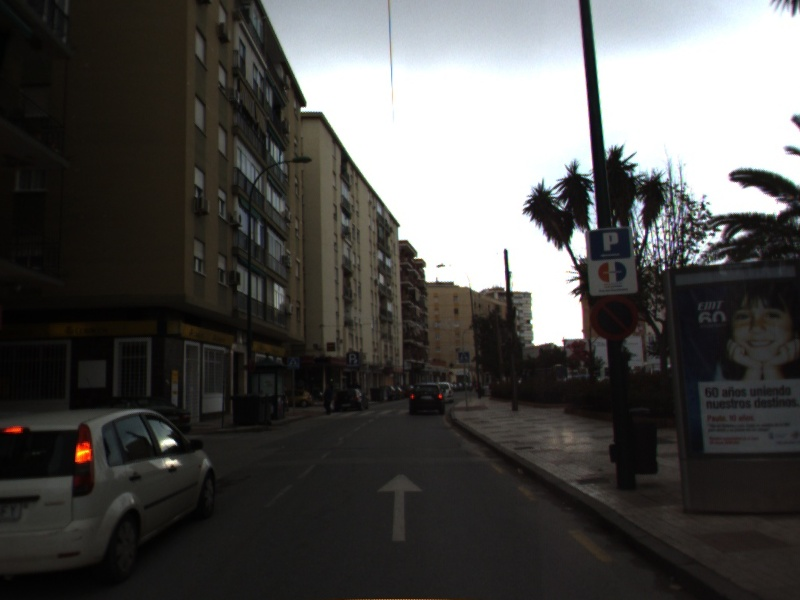STRAIGHT: (375, 472, 425, 543)
